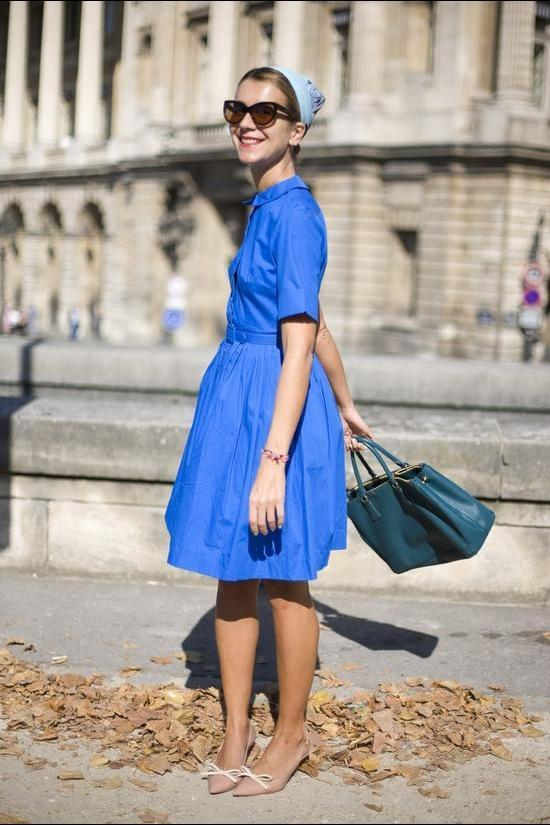dress: (163, 175, 348, 584)
